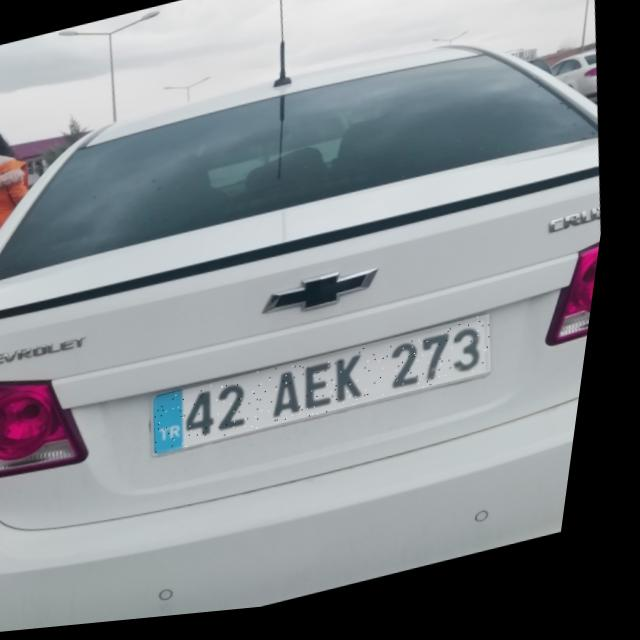license_plate: (161, 324, 509, 460)
